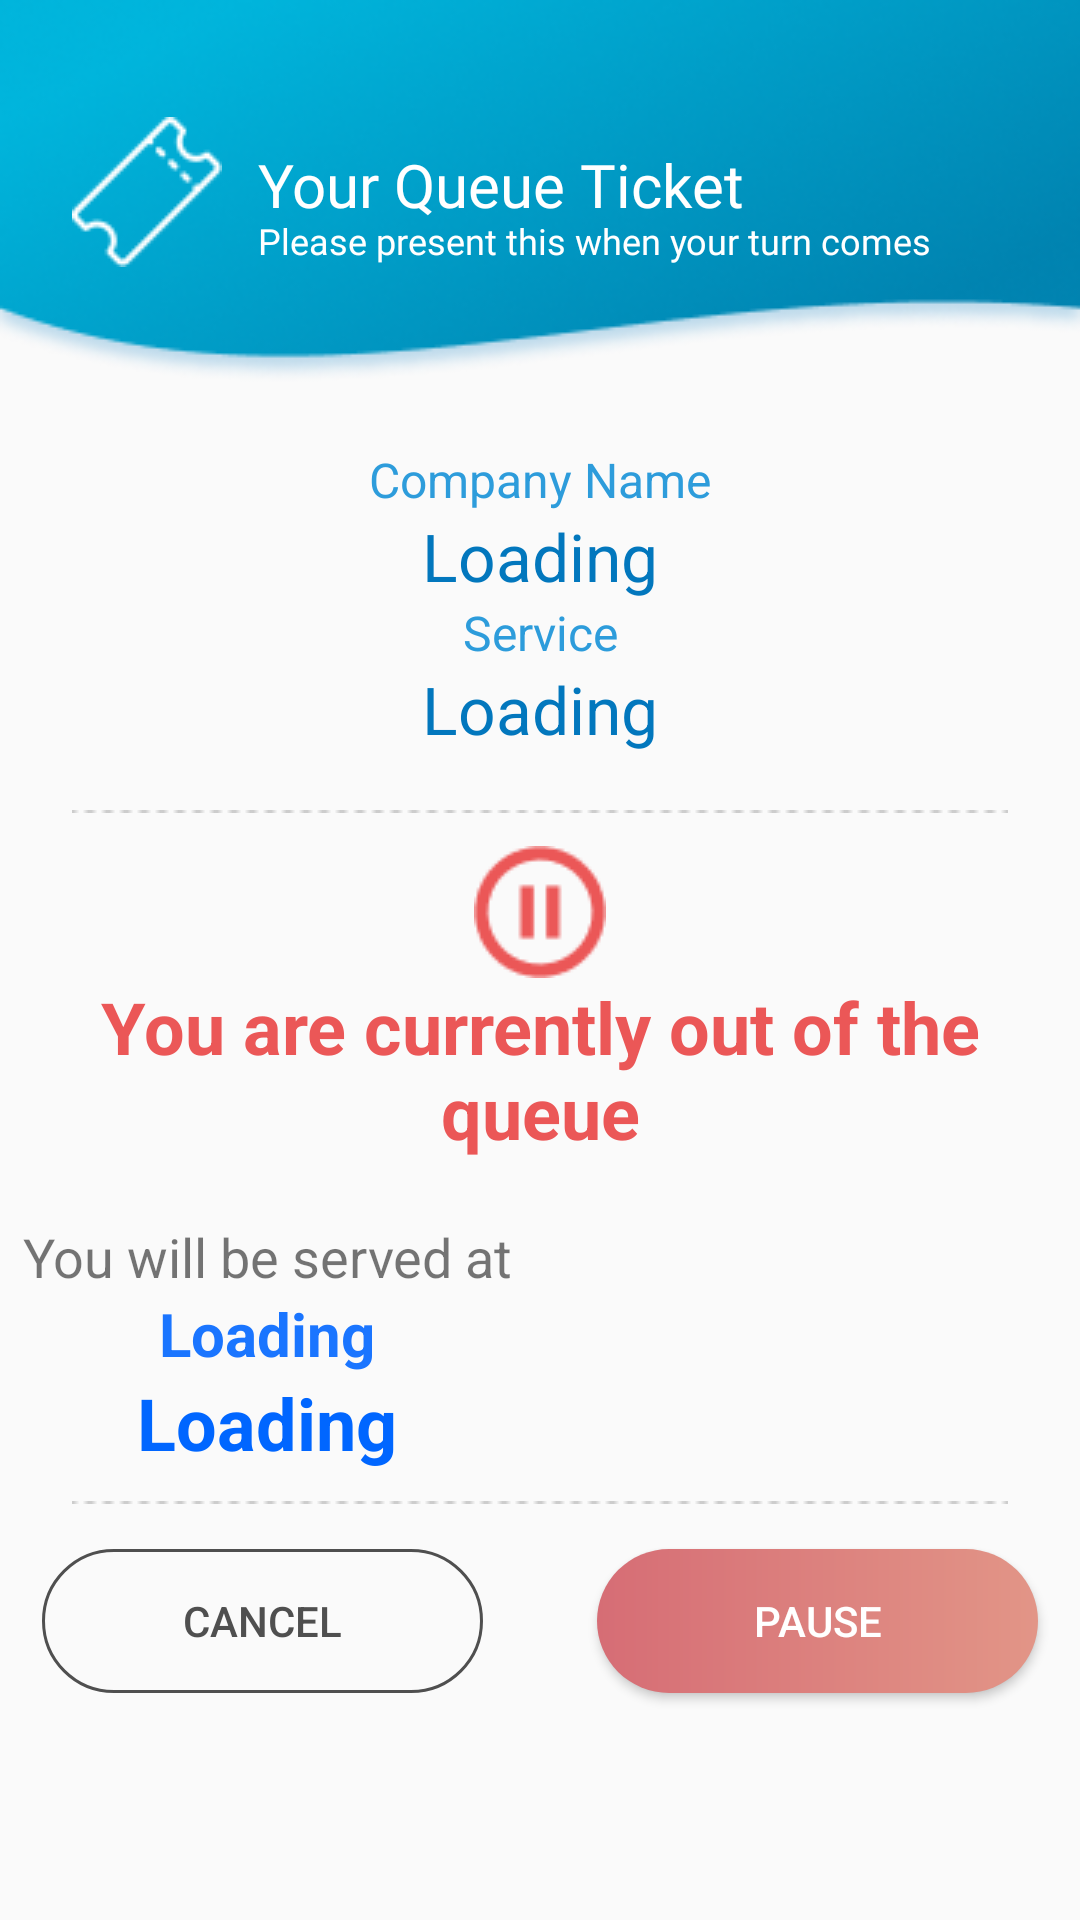

Screen size 1080x1920. Icon name, then its center in pixels as [x,y]:
pause: [540,912]
